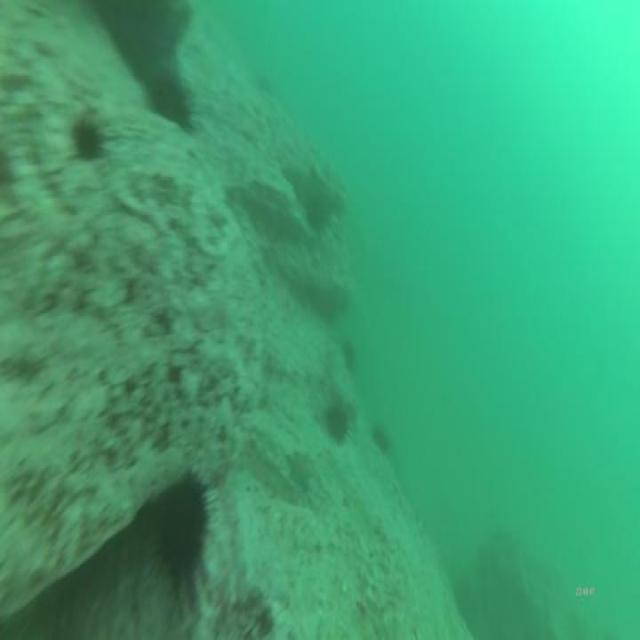echinus: (146, 464, 215, 596), (148, 74, 194, 133), (68, 114, 105, 167), (324, 402, 350, 448), (370, 421, 393, 458), (338, 335, 357, 375)
starfish: (282, 441, 316, 498)
